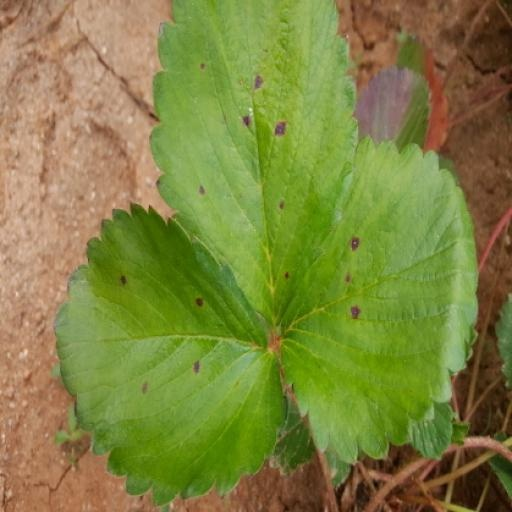Leaf Spot: (222, 200, 459, 507), (150, 0, 364, 337), (32, 135, 240, 464)
